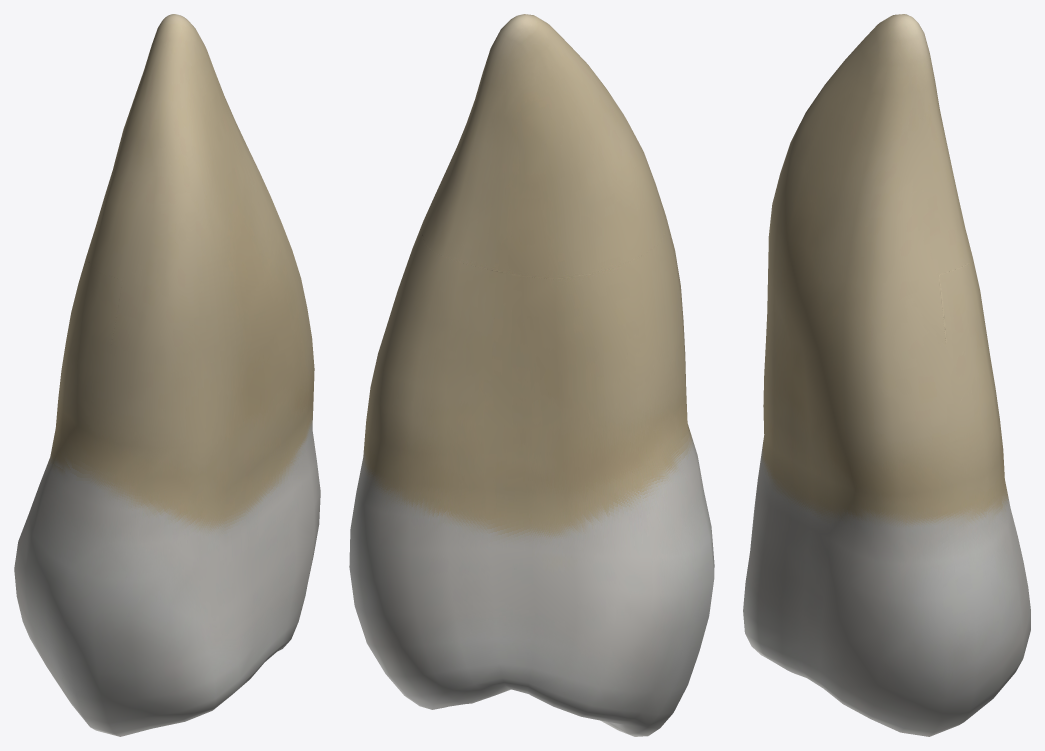
Rendered from tooth-15.glb.
3 views of the same model, side by side, from view 1: azimuth 30°, elevation 25°; view 2: azimuth 150°, elevation 25°; view 3: azimuth 270°, elevation 25° (orthographic). The views are drawn at different scales.
Visible parts, largest first — view 1: ZBrushPolyMesh3D9_blinn17_0; view 2: ZBrushPolyMesh3D9_blinn17_0; view 3: ZBrushPolyMesh3D9_blinn17_0.
Boxes of the visible parts, bbox=[...] form: ZBrushPolyMesh3D9_blinn17_0: bbox=[14, 14, 320, 736]; ZBrushPolyMesh3D9_blinn17_0: bbox=[349, 14, 714, 736]; ZBrushPolyMesh3D9_blinn17_0: bbox=[743, 14, 1030, 736].
Size of the model in its own units: 0.3004 by 0.6642 by 0.2486.
1 material, 1 textured.
